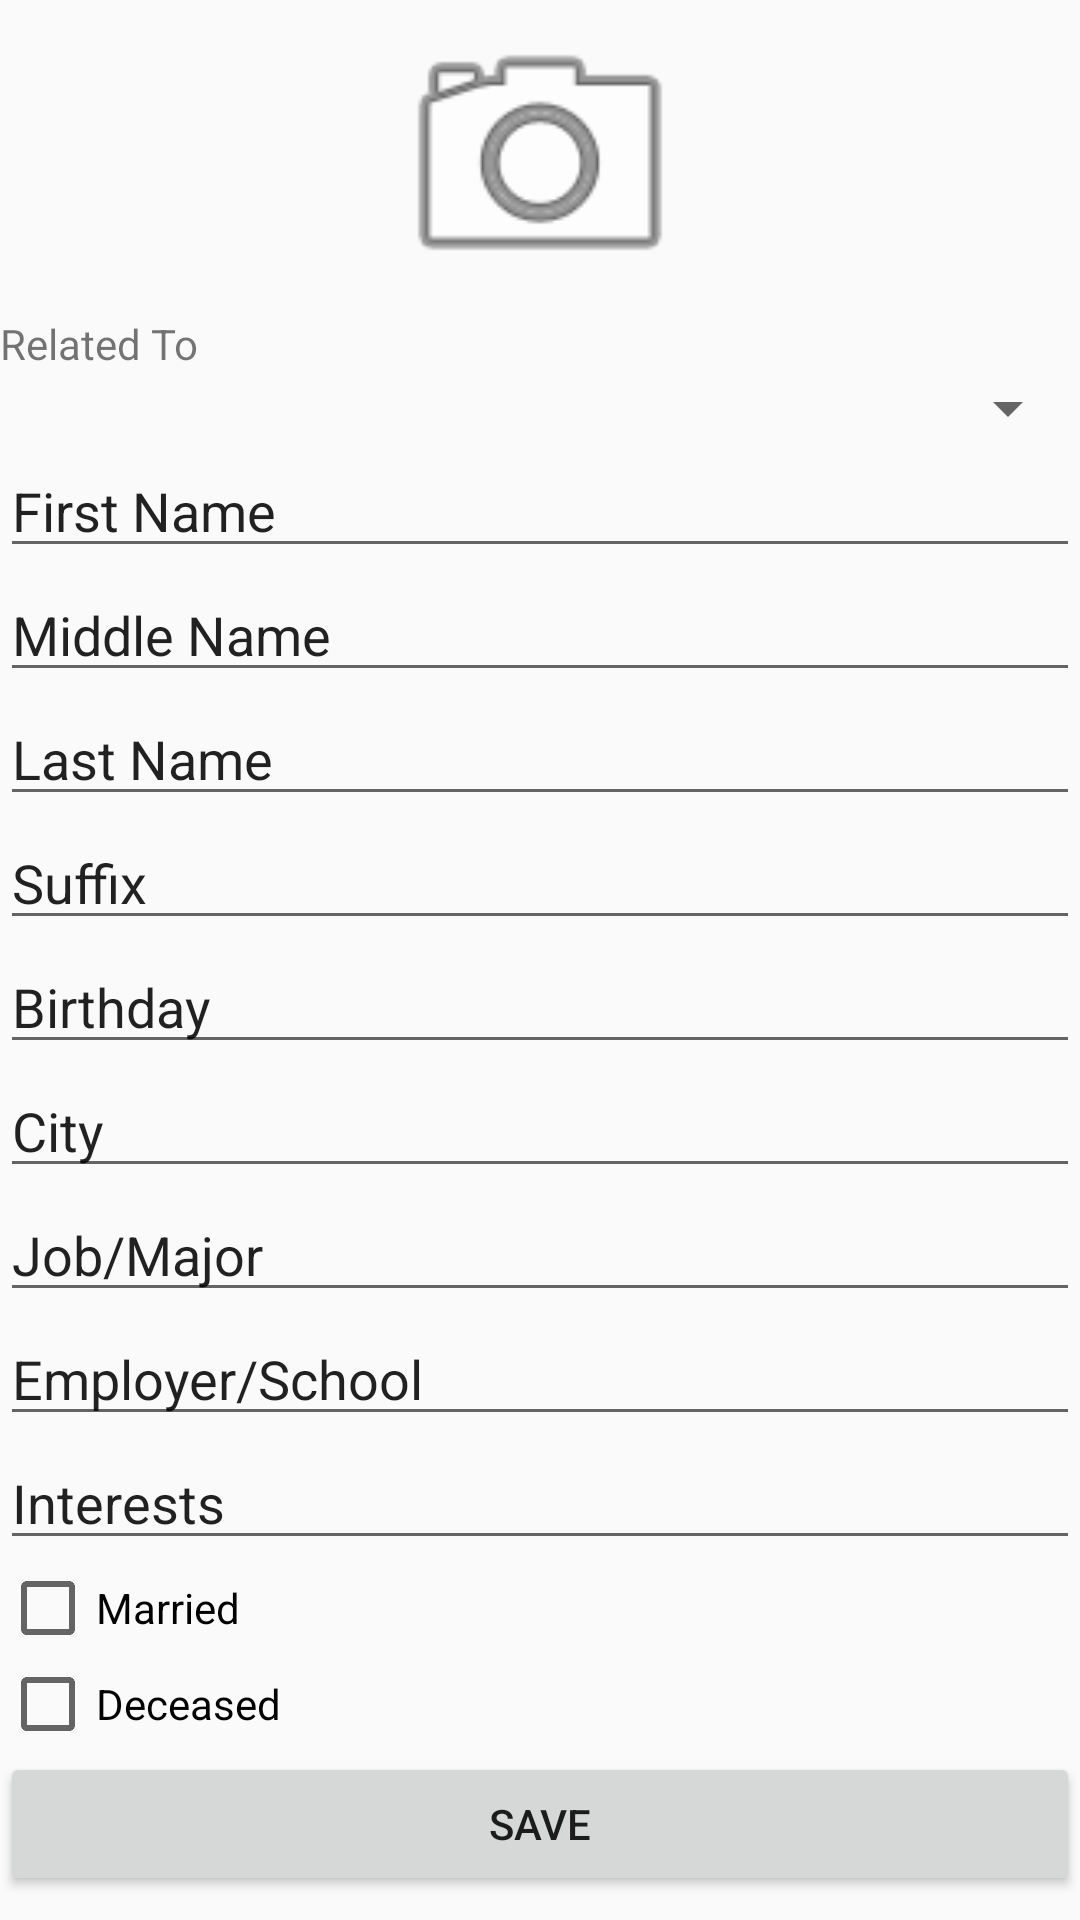

Locate icon controls on the screen. Image size 1080*1920, boxes as [x1=x1, y1=y1, x2=x2, y2=y2].
camera: [x1=418, y1=55, x2=662, y2=250]
